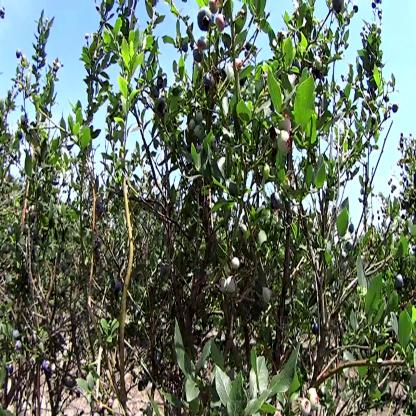intermediate: (217, 13, 228, 38), (301, 397, 312, 416), (235, 56, 244, 75)
mature: (198, 9, 215, 35), (193, 42, 209, 65), (396, 271, 406, 294), (391, 99, 401, 116)
young: (278, 129, 293, 158), (308, 387, 321, 413), (219, 278, 238, 295), (231, 254, 241, 273), (263, 164, 272, 182)
